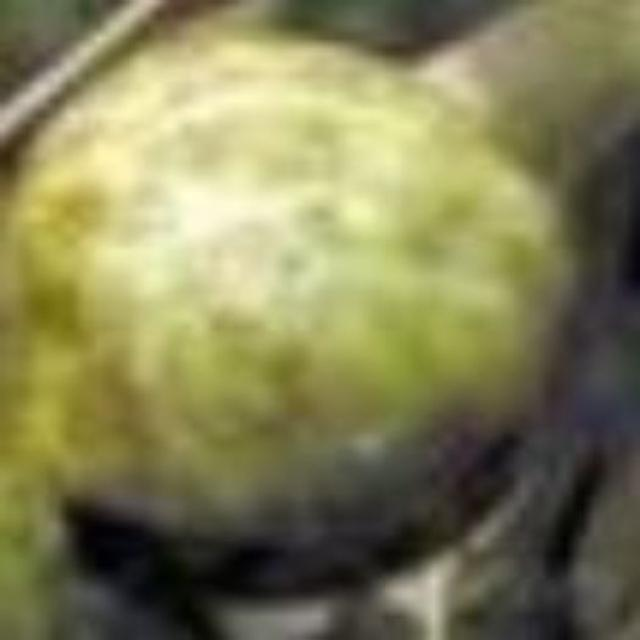Rotten Apple: (12, 12, 592, 626)
